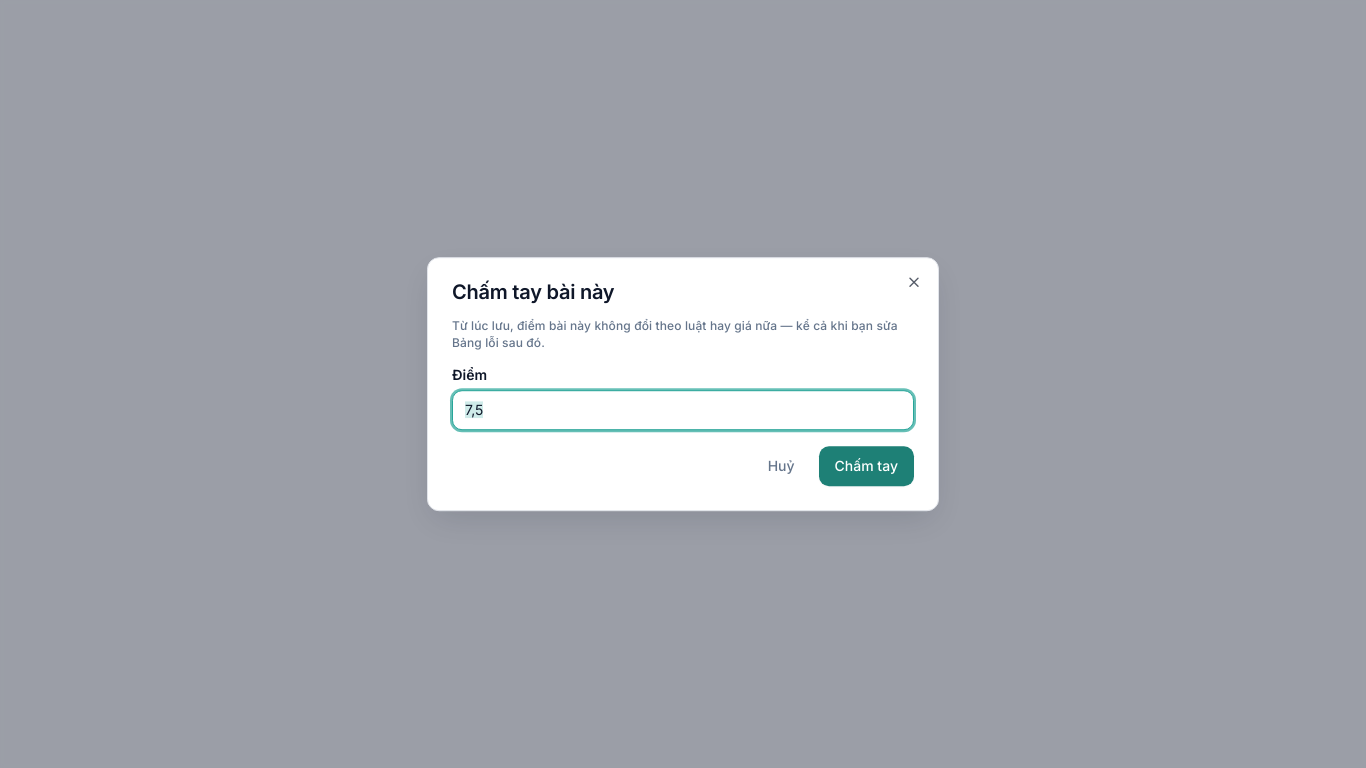
Scenario: ManualScoreDialog › rejects malformed input with a message that names the accepted form
Replace the text in the field labelled "Điểm" with "7,555": (683, 410) 452,390 -> 914,430
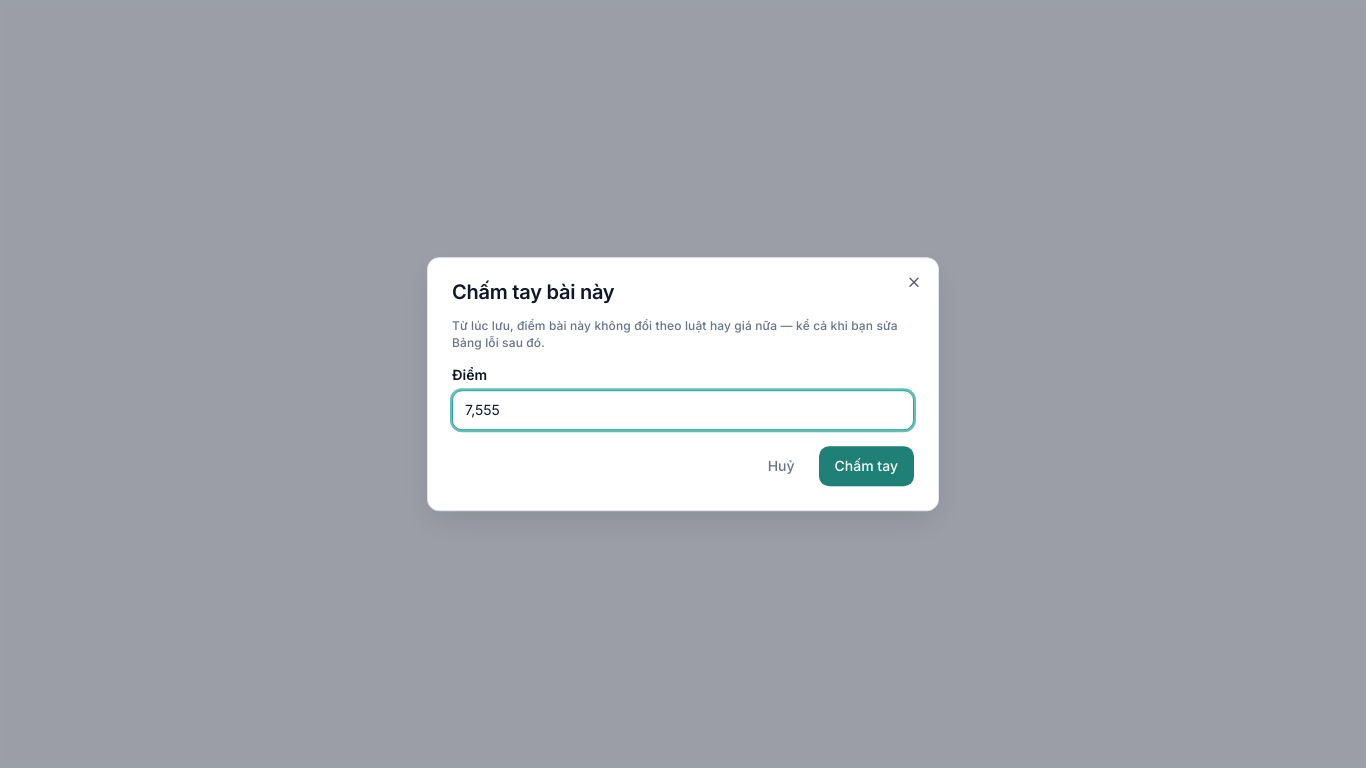
Click the button "Chấm tay": (866, 466) 819,446 -> 914,486
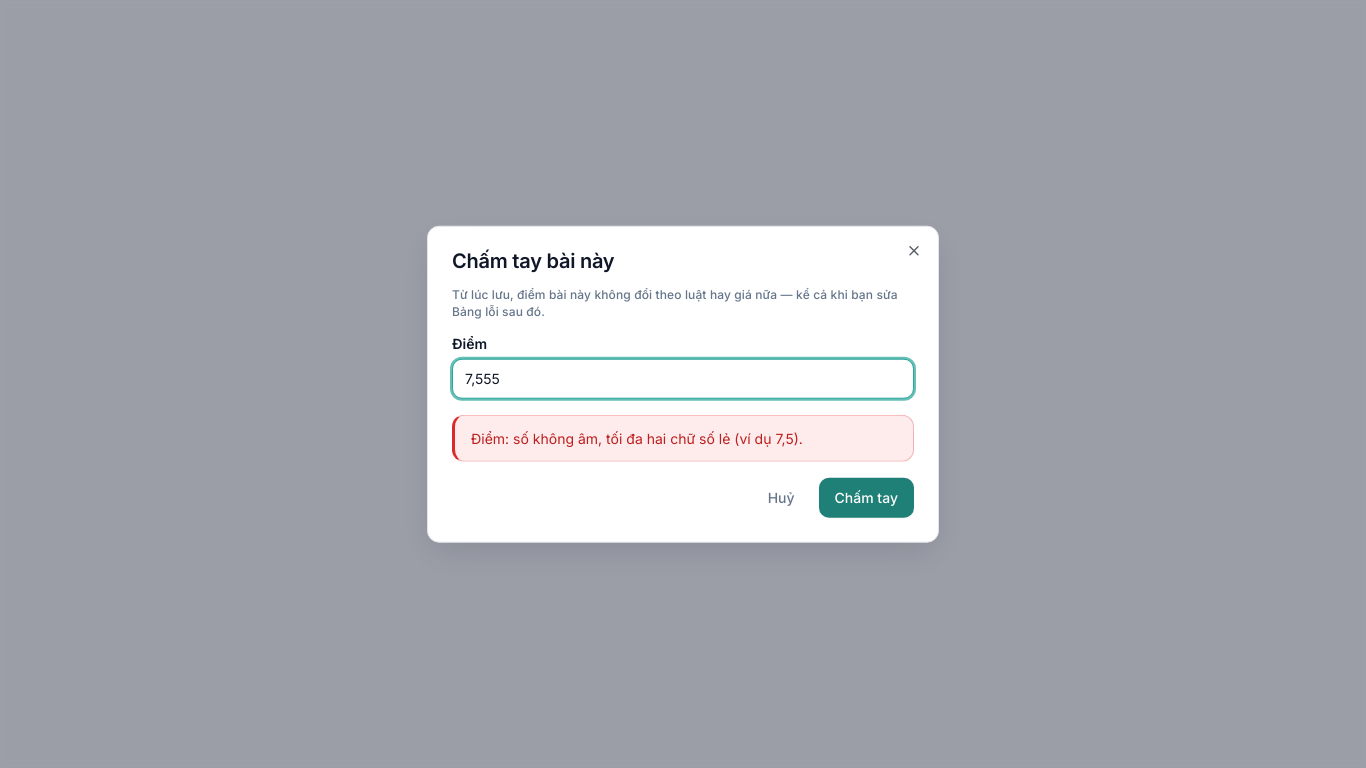
Now the text "Điểm: số không âm, tối đa hai chữ số lẻ (ví dụ 7,5)." is shown, box 471,429 -> 803,446
